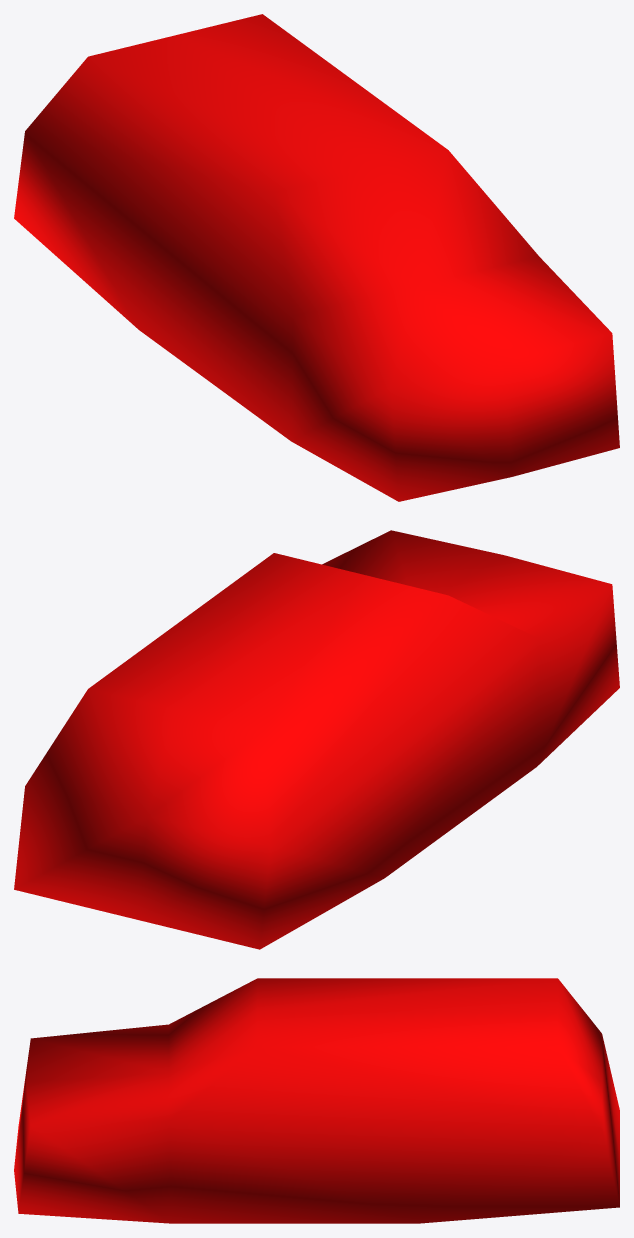
File: car_04_collider.fbx
3 views of the same model, one above another, from view 1: azimuth 30°, elevation 25°; view 2: azimuth 150°, elevation 25°; view 3: azimuth 270°, elevation 25° (orthographic). The views are drawn at different scales.
Visible parts, largest first — view 1: Mesh; view 2: Mesh; view 3: Mesh.
Boxes of the visible parts, <box> form: Mesh: <box>14,14,619,501</box>; Mesh: <box>14,530,619,949</box>; Mesh: <box>14,978,619,1223</box>.
Size of the model in its own units: 162 by 127 by 428.
